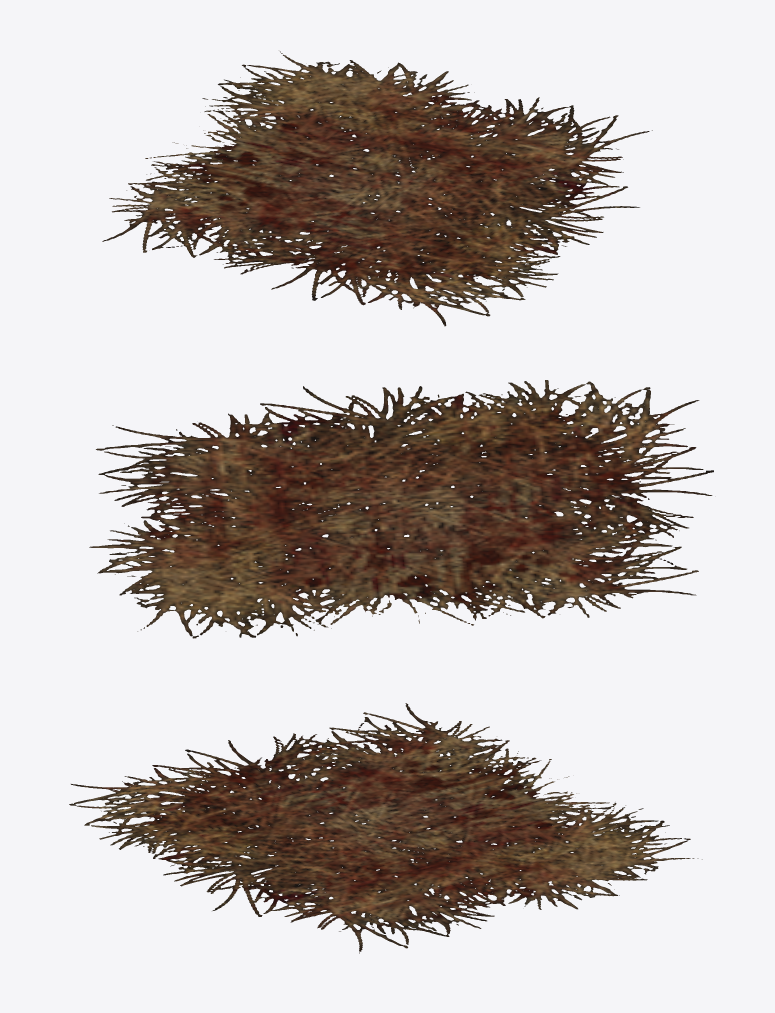
The model's file is tlfb2_maocao.FBX.
The picture shows the model from 3 angles, top to bottom: view 1: azimuth 30°, elevation 25°; view 2: azimuth 150°, elevation 25°; view 3: azimuth 270°, elevation 25°; orthographic projection. The views are drawn at different scales.
Visible parts, largest first — view 1: tlfb2_maocao; view 2: tlfb2_maocao; view 3: tlfb2_maocao.
Boxes of the visible parts, bbox=[...] form: tlfb2_maocao: bbox=[102, 51, 652, 326]; tlfb2_maocao: bbox=[89, 380, 713, 638]; tlfb2_maocao: bbox=[69, 703, 702, 953].
Bounding box in the file's own units: 496 × 0 × 475.
